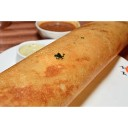dosa: (1, 22, 126, 107)
